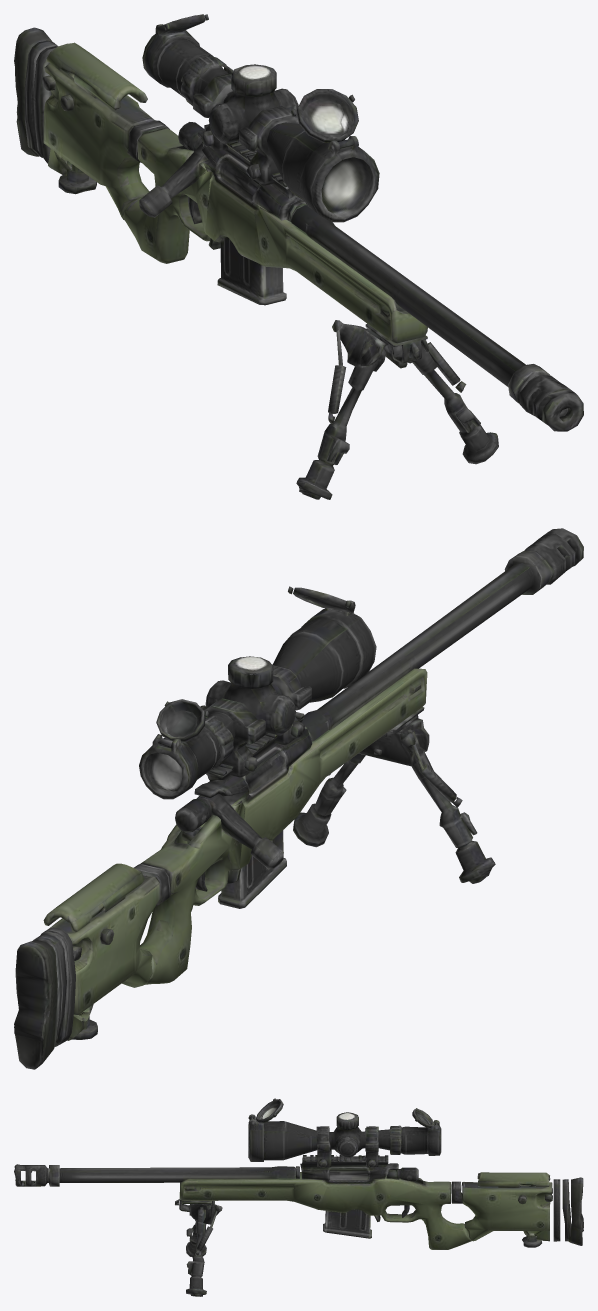
Rendered from sniper.glb.
3 views of the same model, one above another, from view 1: azimuth 30°, elevation 25°; view 2: azimuth 150°, elevation 25°; view 3: azimuth 270°, elevation 25° (orthographic). The views are drawn at different scales.
Parts seen in each view (by area): view 1: w_sniper; view 2: w_sniper; view 3: w_sniper.
Boxes of the visible parts, bbox=[...] form: w_sniper: bbox=[14, 14, 583, 499]; w_sniper: bbox=[14, 528, 583, 1069]; w_sniper: bbox=[14, 1098, 583, 1296].
Bounding box in the file's own units: 0.2253 × 0.3559 × 1.05.
Materials: 1 (1 with a texture image).
